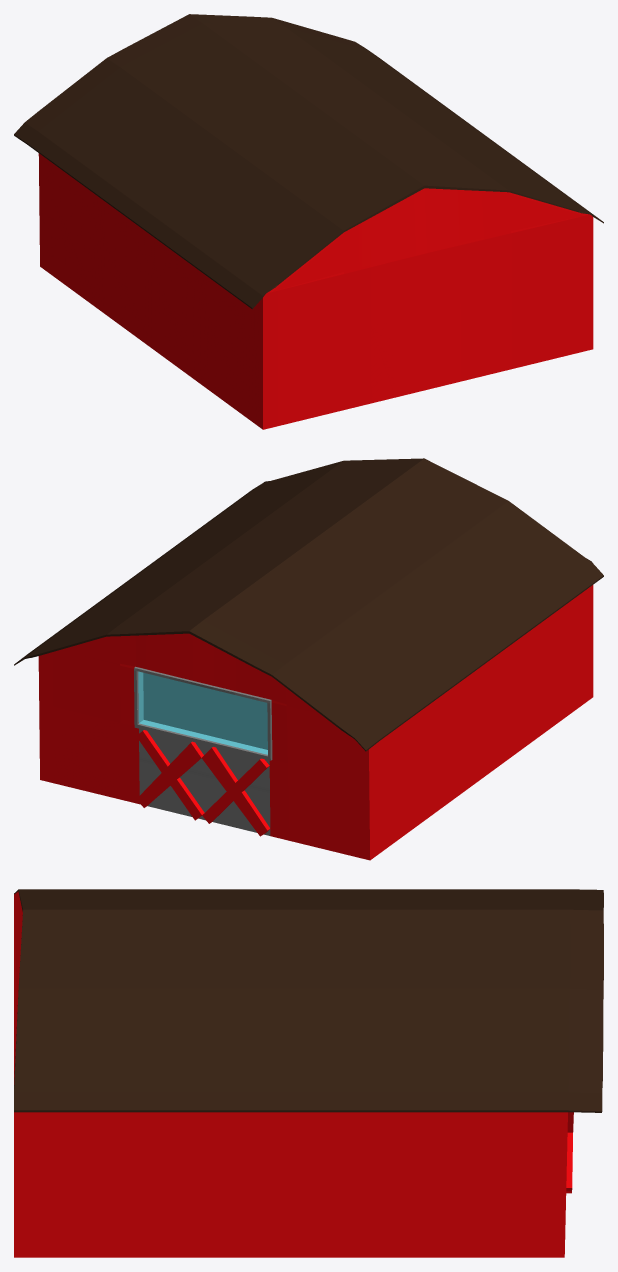
The model's file is celeiro_bad 1.fbx.
The picture shows the model from 3 angles, top to bottom: view 1: azimuth 30°, elevation 25°; view 2: azimuth 150°, elevation 25°; view 3: azimuth 270°, elevation 25°; orthographic projection. The views are drawn at different scales.
Parts seen in each view (by area): view 1: Cube; view 2: Cube; view 3: Cube.
Part boxes in pixels (x1,y1,x2,y2): Cube: (14, 14, 603, 429); Cube: (14, 458, 603, 860); Cube: (14, 889, 603, 1257).
Bounding box in the file's own units: 15560 × 8503 × 18298.
